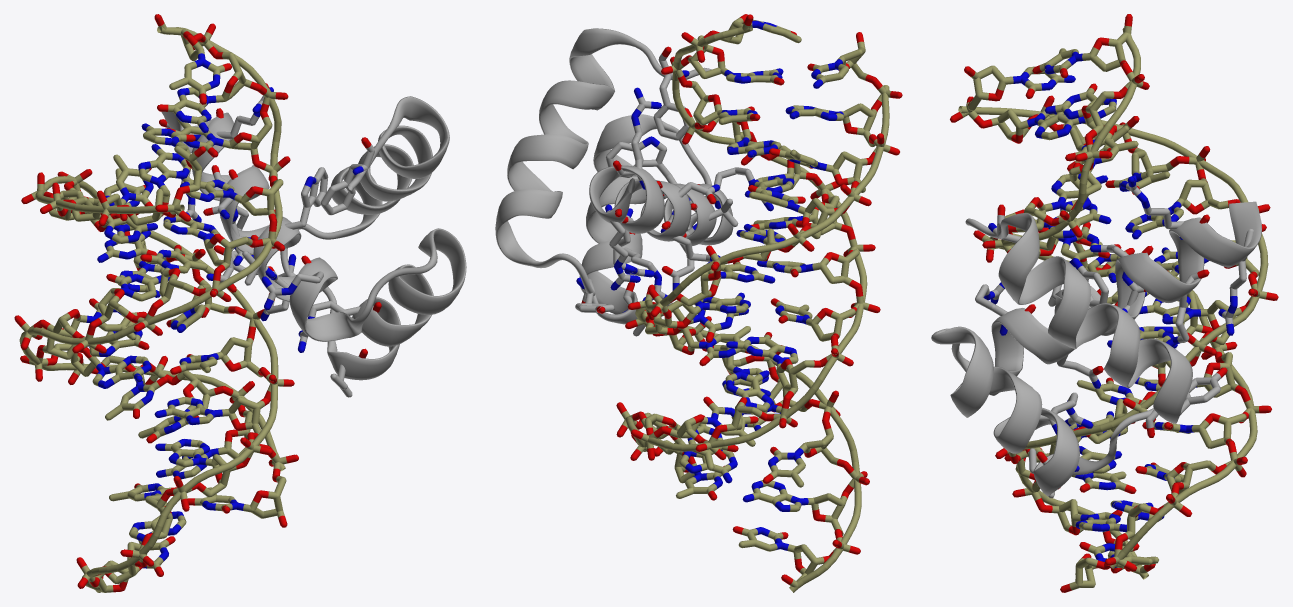
Rendered from prot-dna.gltf.
3 renders of one model, left to right at view 1: azimuth 30°, elevation 25°; view 2: azimuth 150°, elevation 25°; view 3: azimuth 270°, elevation 25°, orthographic. The views are drawn at different scales.
Visible parts, largest first — view 1: dna-prot-frame-60; view 2: dna-prot-frame-60; view 3: dna-prot-frame-60.
Part boxes in pixels (left/top/right/bottom): dna-prot-frame-60: left=14, top=14, right=466, bottom=592; dna-prot-frame-60: left=495, top=14, right=902, bottom=592; dna-prot-frame-60: left=931, top=14, right=1278, bottom=592.
Bounding box in the file's own units: 1.8 × 2.67 × 1.42.
